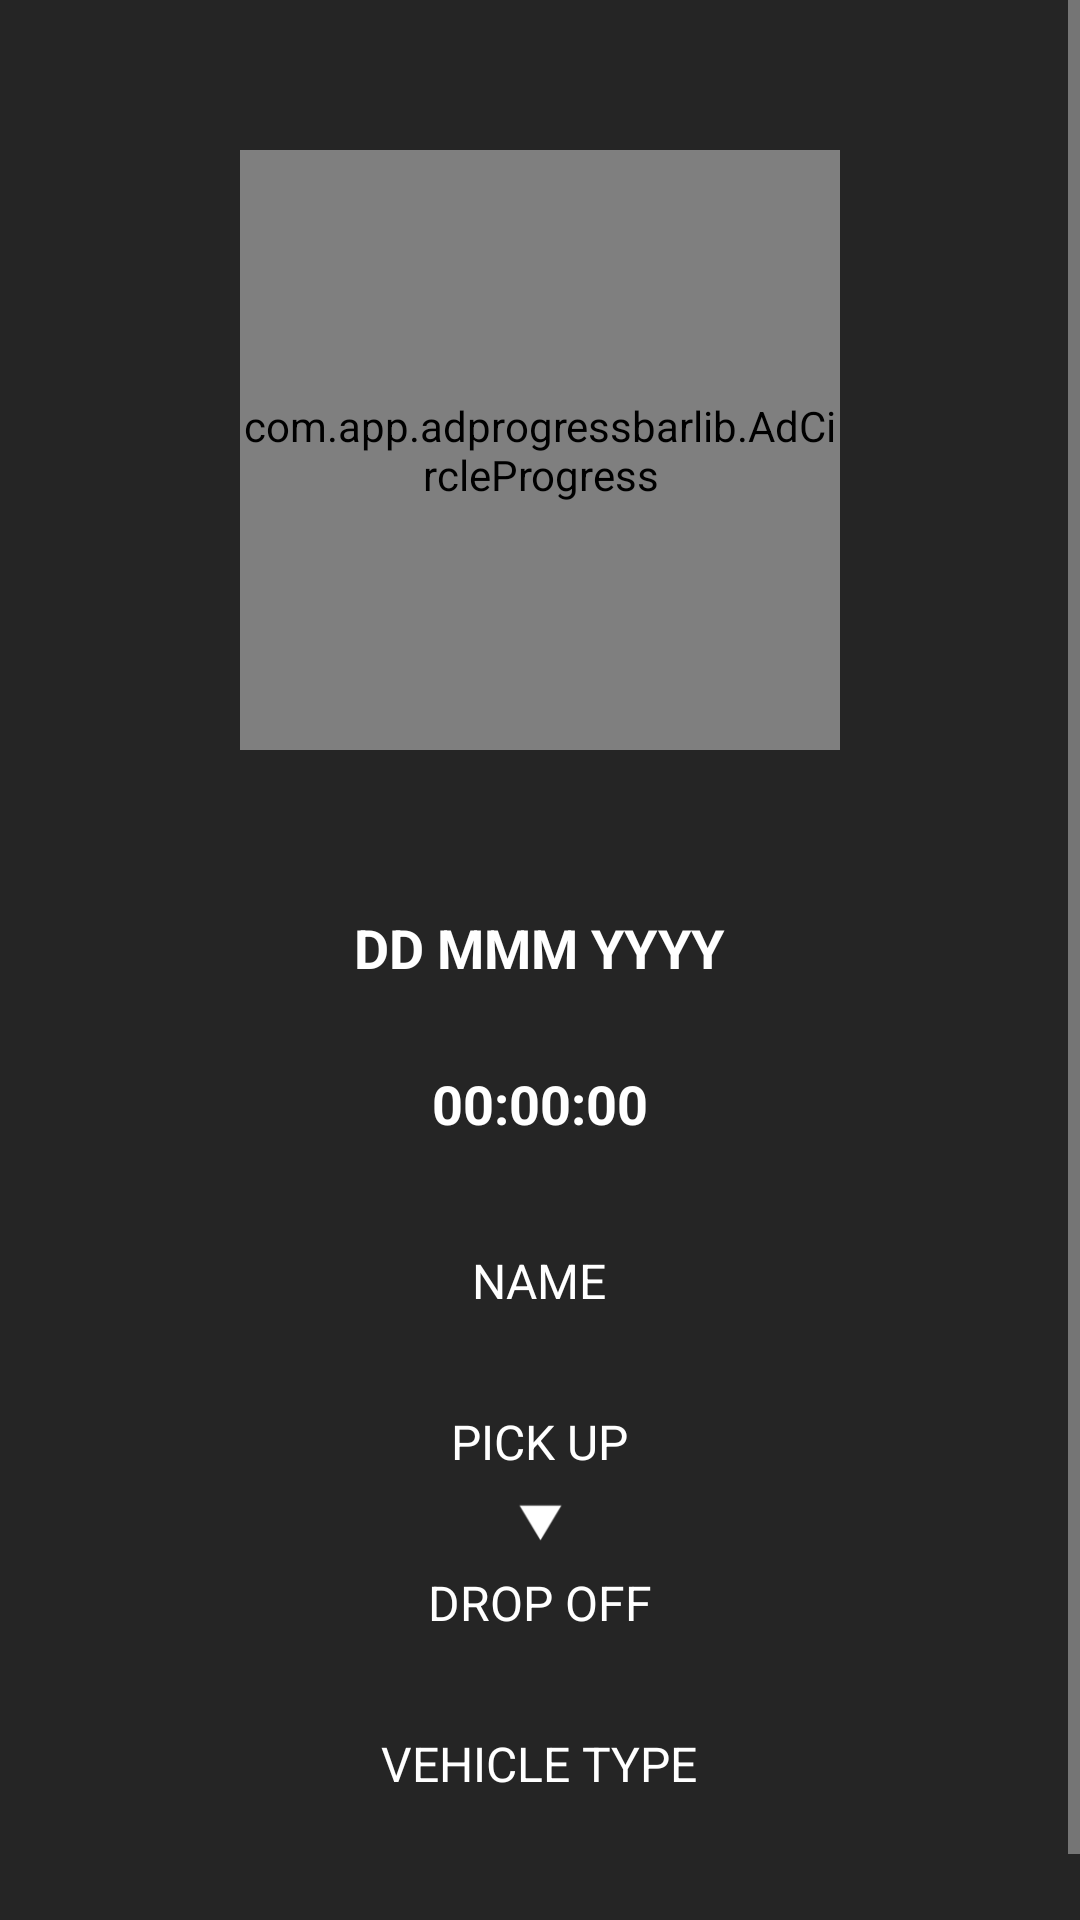

Screen size 1080*1920. Icon name, then its box in pixels as [left=x1, top=y1, right=x2, bottom=y2]:
loc arrow: [left=519, top=1505, right=562, bottom=1540]
